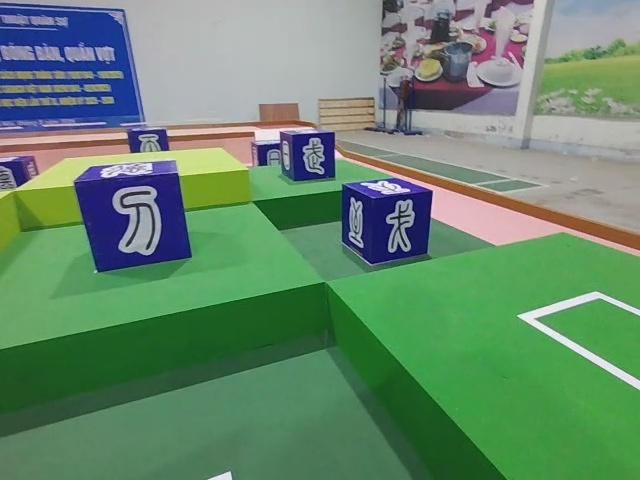R2 Fake Blue: (73, 161, 192, 277), (338, 178, 432, 267), (277, 129, 334, 185), (125, 127, 170, 156), (0, 154, 38, 188), (252, 140, 284, 169)
